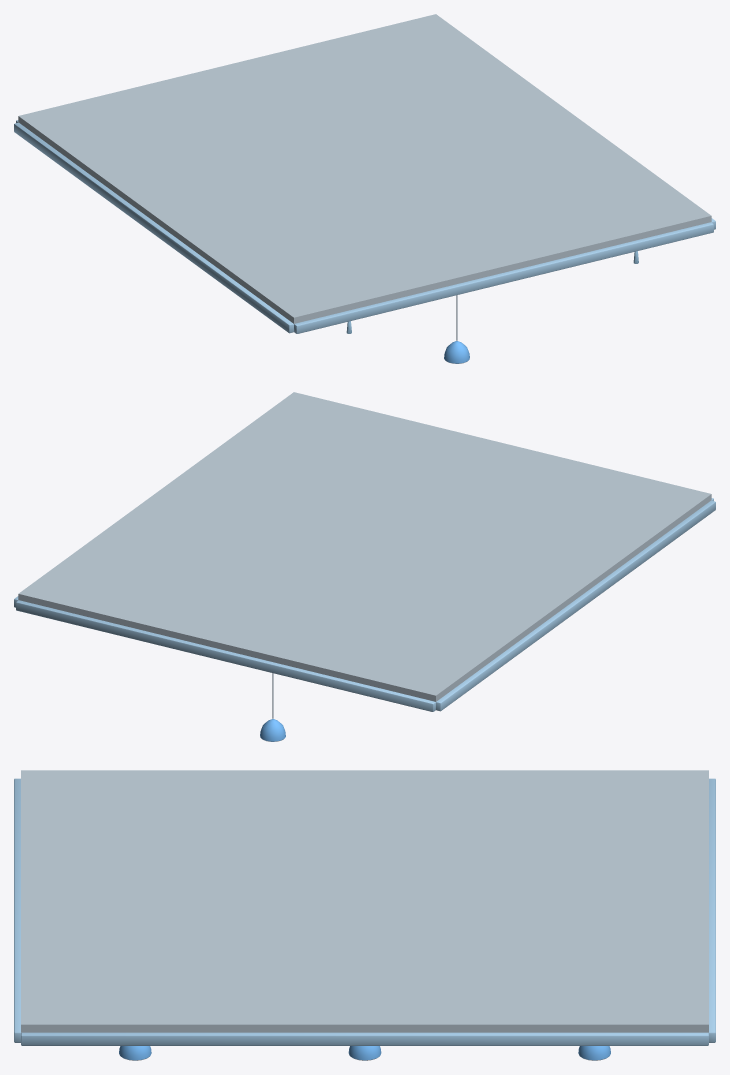
The model's file is CeilingIce.fbx.
3 renders of one model, top to bottom at view 1: azimuth 30°, elevation 25°; view 2: azimuth 150°, elevation 25°; view 3: azimuth 270°, elevation 25°, orthographic. The views are drawn at different scales.
Parts seen in each view (by area): view 1: CeilingIce; view 2: CeilingIce; view 3: CeilingIce.
Part boxes in pixels (<box>): CeilingIce: <box>14,14,715,363</box>; CeilingIce: <box>14,392,715,741</box>; CeilingIce: <box>14,770,715,1060</box>.
Bounding box in the file's own units: 7160 × 2020 × 8160.
